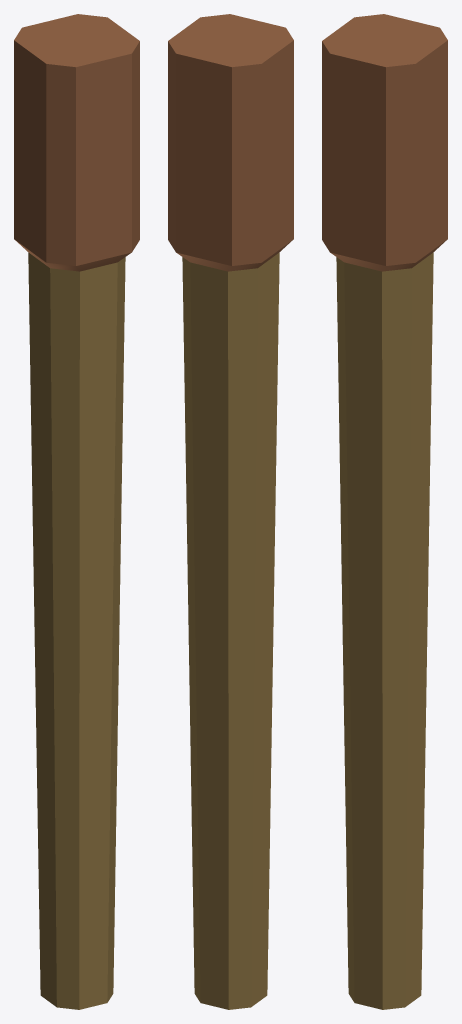
File: mesh_torch.fbx
3 views of the same model, side by side, from view 1: azimuth 30°, elevation 25°; view 2: azimuth 150°, elevation 25°; view 3: azimuth 330°, elevation 25° (orthographic).
Visible parts, largest first — view 1: torch; view 2: torch; view 3: torch.
Boxes of the visible parts, bbox=[...] form: torch: bbox=[14, 14, 139, 1009]; torch: bbox=[168, 14, 293, 1009]; torch: bbox=[322, 14, 447, 1009].
Size of the model in its own units: 8.51 by 82.76 by 8.51.
Materials: 1 (1 with a texture image).
